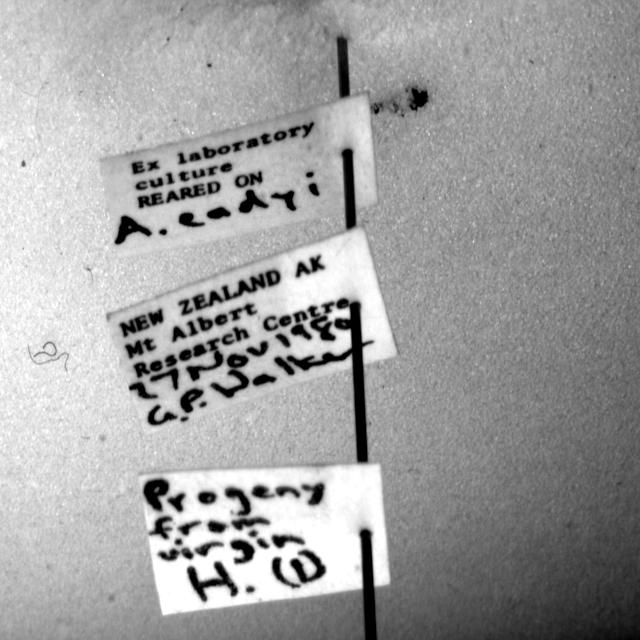hand_label: (140, 463, 390, 615)
mixed_label: (108, 227, 398, 433), (100, 92, 378, 257)
